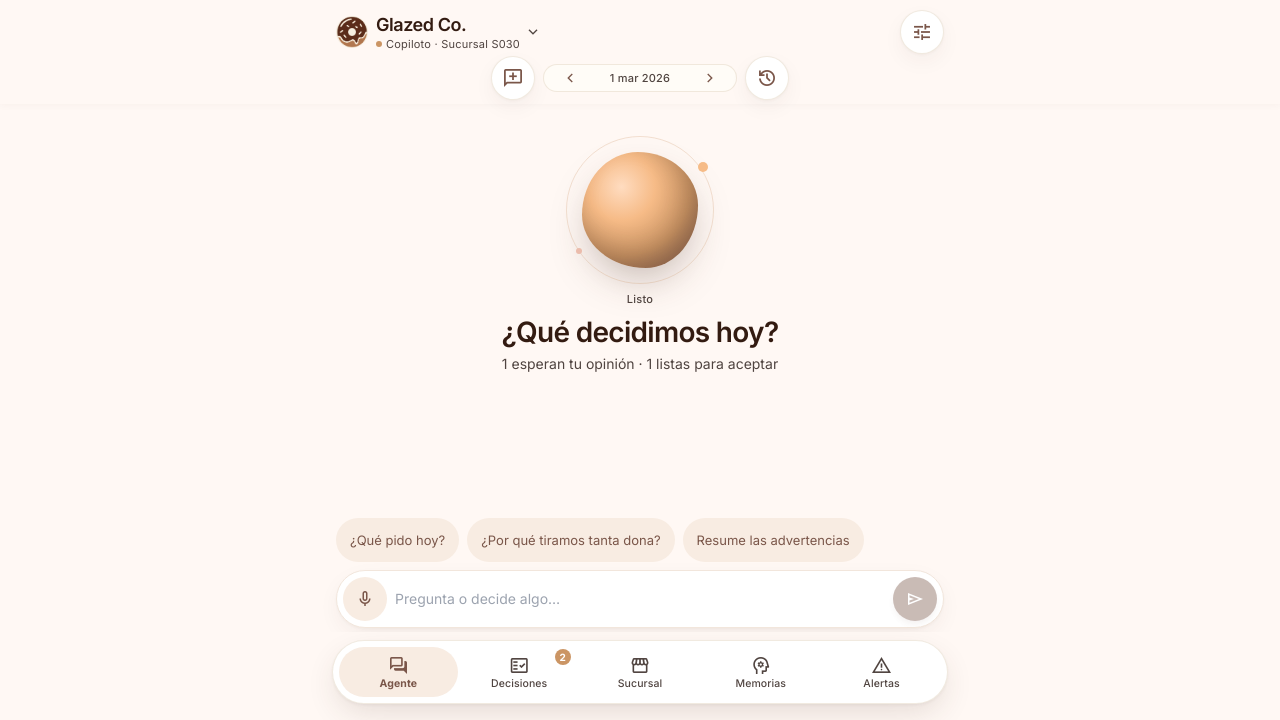
Scenario: Decisiones window › treats a 409 as 'already decided': neutral toast, refetches pending, no success claim and no local memory
Click the button "Decisiones 2". click: click(519, 672)
box: x1=460 y1=647 x2=579 y2=697
(page scrolled)
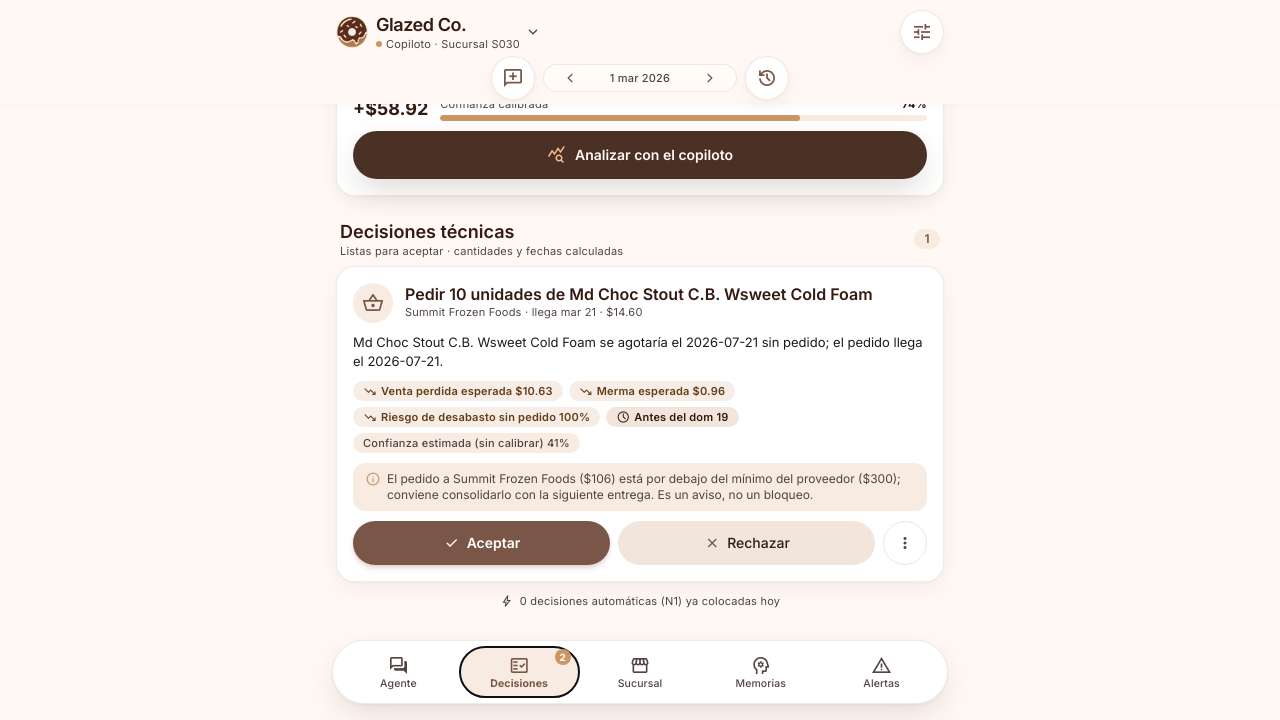
Click the button "Rechazar". click: click(746, 543)
box: x1=618 y1=521 x2=875 y2=565
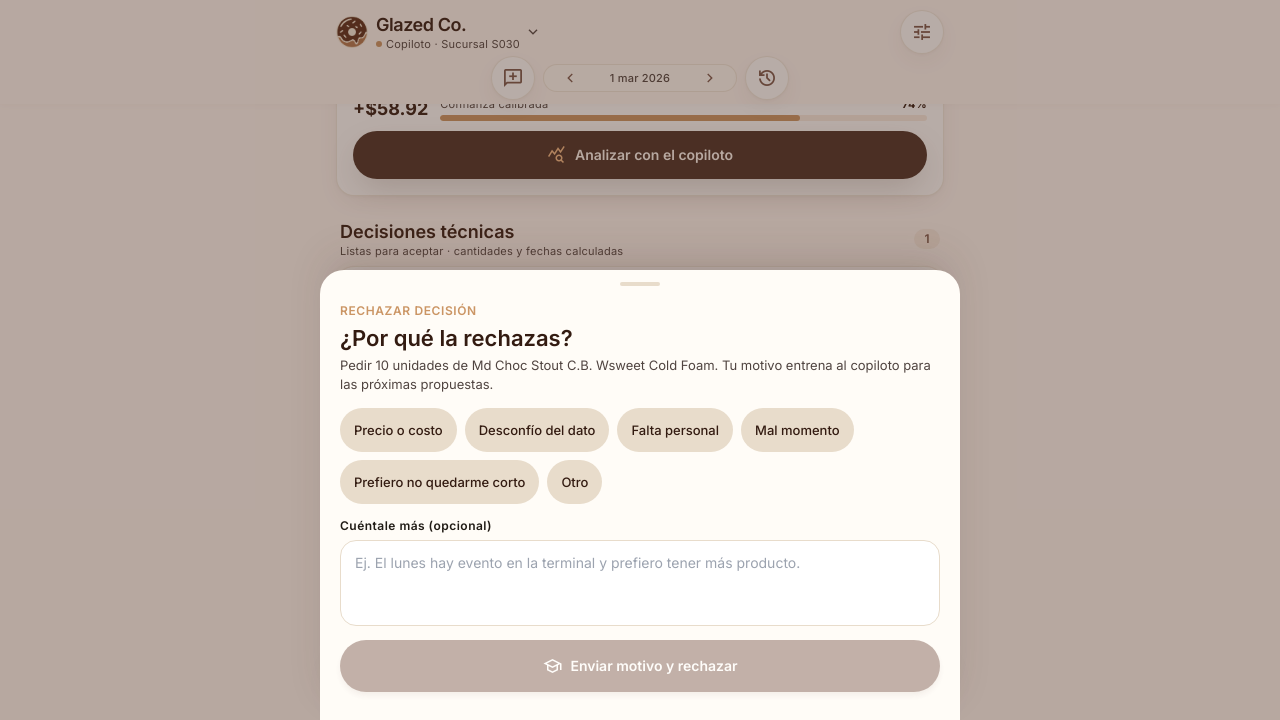
Click the button "Mal momento". click: click(797, 430)
box: x1=741 y1=408 x2=854 y2=452
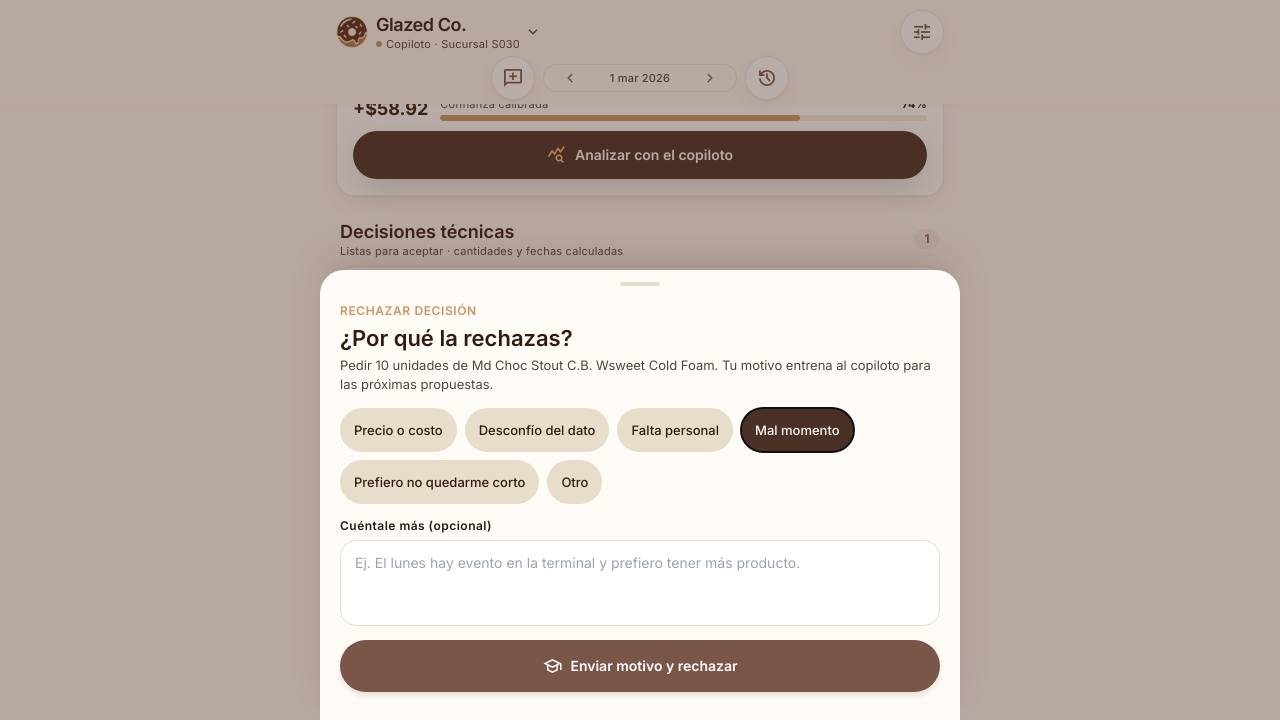
Click the button "Enviar motivo y rechazar". click: click(640, 666)
box: x1=340 y1=640 x2=940 y2=692
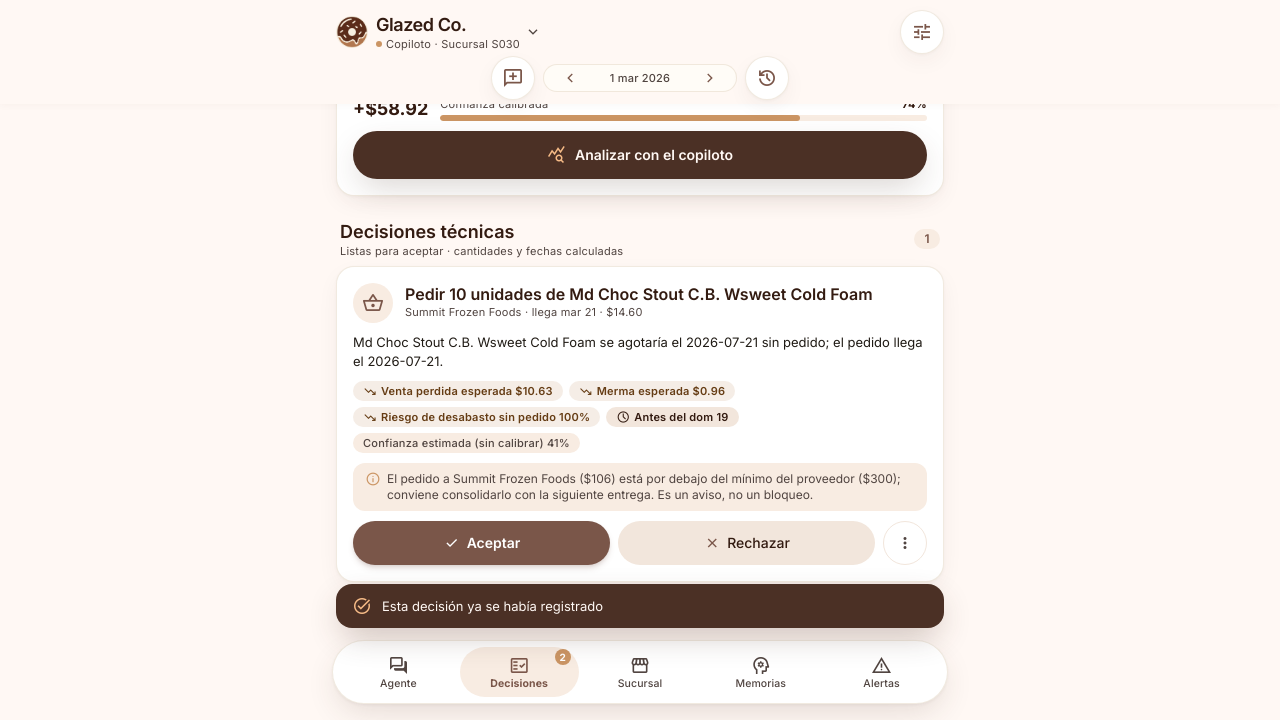
Expected: the button with aria-label "Decisiones, 2 pendientes" is shown, x1=460 y1=647 x2=579 y2=697
Now the text "0 decisiones automáticas (N1) ya colocadas hoy" is shown, box x1=500 y1=593 x2=780 y2=609
Now the message reads "Esta decisión ya se había registrado", box x1=382 y1=598 x2=603 y2=614
